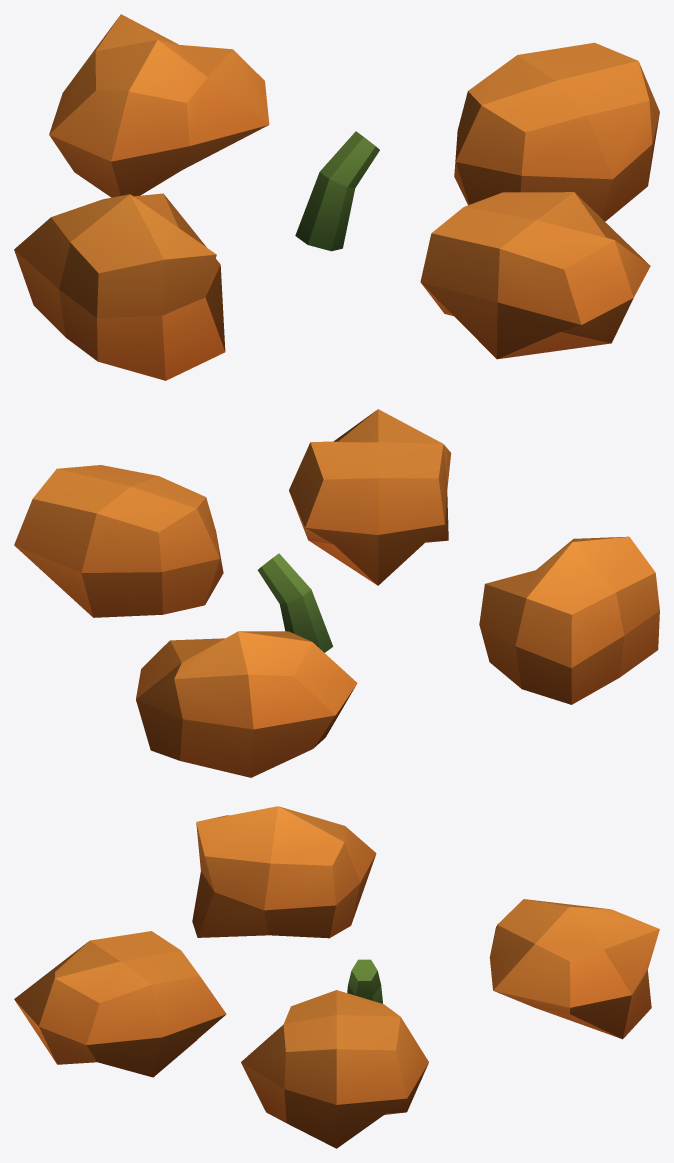
The model's file is PlayGround_Kit_Pumpkin_Stack_Broken.fbx.
3 renders of one model, top to bottom at view 1: azimuth 30°, elevation 25°; view 2: azimuth 150°, elevation 25°; view 3: azimuth 270°, elevation 25°, orthographic. The views are drawn at different scales.
Visible parts, largest first — view 1: PlayGround_Kit_Pumpkin_Stack_Broken_3, PlayGround_Kit_Pumpkin_Stack_Broken_4, PlayGround_Kit_Pumpkin_Stack_Broken_1, PlayGround_Kit_Pumpkin_Stack_Broken_2, PlayGround_Kit_Pumpkin_Stack_Broken_5; view 2: PlayGround_Kit_Pumpkin_Stack_Broken_1, PlayGround_Kit_Pumpkin_Stack_Broken_2, PlayGround_Kit_Pumpkin_Stack_Broken_3, PlayGround_Kit_Pumpkin_Stack_Broken_4, PlayGround_Kit_Pumpkin_Stack_Broken_5; view 3: PlayGround_Kit_Pumpkin_Stack_Broken_4, PlayGround_Kit_Pumpkin_Stack_Broken_3, PlayGround_Kit_Pumpkin_Stack_Broken_1, PlayGround_Kit_Pumpkin_Stack_Broken_2, PlayGround_Kit_Pumpkin_Stack_Broken_5.
Boxes of the visible parts, <box> form: PlayGround_Kit_Pumpkin_Stack_Broken_3: <box>14,193,225,380</box>; PlayGround_Kit_Pumpkin_Stack_Broken_4: <box>420,192,650,359</box>; PlayGround_Kit_Pumpkin_Stack_Broken_1: <box>454,42,659,221</box>; PlayGround_Kit_Pumpkin_Stack_Broken_2: <box>49,14,269,197</box>; PlayGround_Kit_Pumpkin_Stack_Broken_5: <box>295,131,379,251</box>; PlayGround_Kit_Pumpkin_Stack_Broken_1: <box>14,465,223,617</box>; PlayGround_Kit_Pumpkin_Stack_Broken_2: <box>136,631,357,777</box>; PlayGround_Kit_Pumpkin_Stack_Broken_3: <box>479,536,659,704</box>; PlayGround_Kit_Pumpkin_Stack_Broken_4: <box>289,409,451,585</box>; PlayGround_Kit_Pumpkin_Stack_Broken_5: <box>257,553,332,652</box>; PlayGround_Kit_Pumpkin_Stack_Broken_4: <box>14,931,226,1077</box>; PlayGround_Kit_Pumpkin_Stack_Broken_3: <box>192,806,376,938</box>; PlayGround_Kit_Pumpkin_Stack_Broken_1: <box>241,990,428,1148</box>; PlayGround_Kit_Pumpkin_Stack_Broken_2: <box>489,899,659,1039</box>; PlayGround_Kit_Pumpkin_Stack_Broken_5: <box>347,959,382,1003</box>.
Size of the model in its own units: 1.03 by 0.2349 by 1.09.
